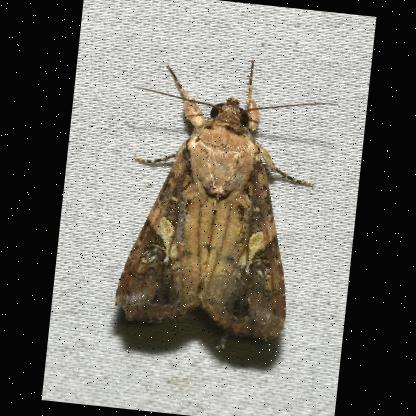Fall Armyworm Moth: (102, 44, 345, 362)
